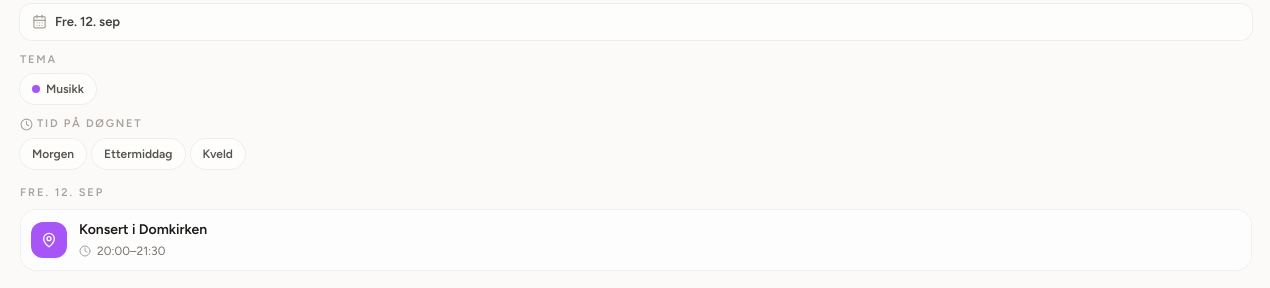
Test: EventDetailPanel (Unit 6, R15) › event-klikk åpner per-event-panel med korrekt metadata (tittel/dato/tid/sted/beskrivelse)
// Klikk event-raden i lista → OPEN_POI → detalj-panel tar over.
Click the text "Konsert i Domkirken". click: (143, 230)
box: [79,221,207,238]
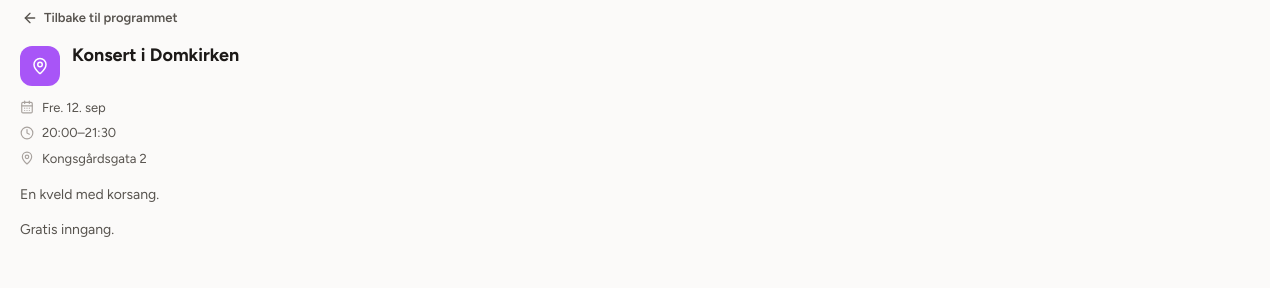
Result: the button "Tilbake til programmet" is shown at [16,4,184,32]
Result: the text "Kongsgårdsgata 2" is shown at [42,150,147,166]
Result: the text "En kveld med korsang." is shown at [20,186,159,203]
